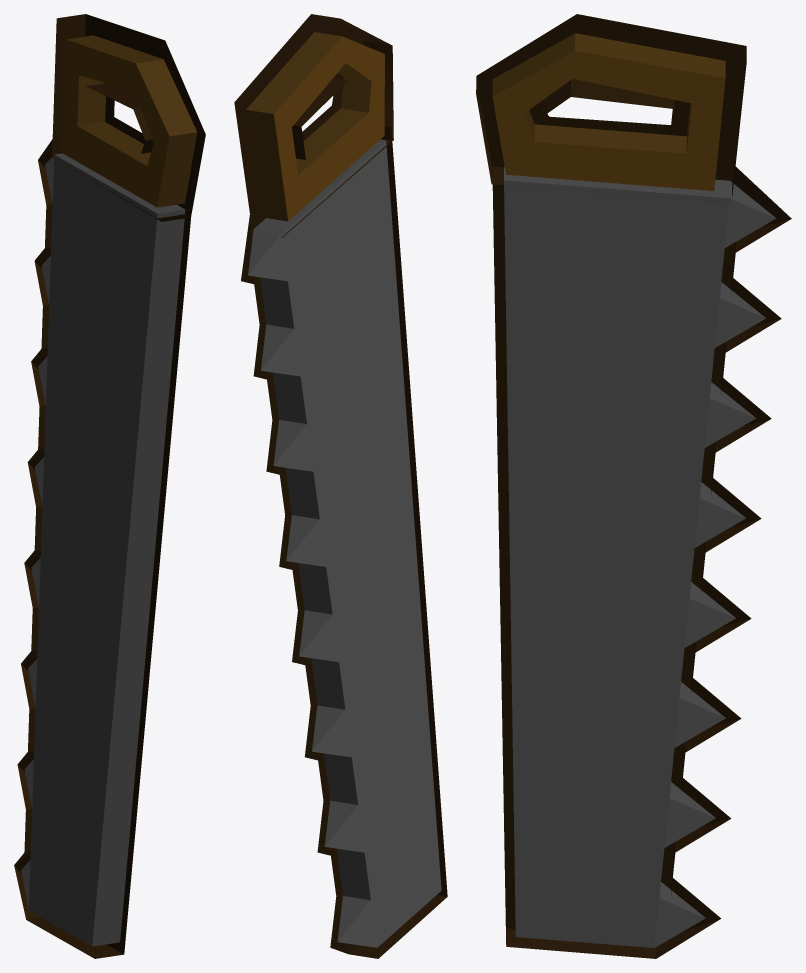
Rendered from Saw.FBX.
3 renders of one model, left to right at view 1: azimuth 30°, elevation 25°; view 2: azimuth 150°, elevation 25°; view 3: azimuth 270°, elevation 25°, orthographic. The views are drawn at different scales.
Visible parts, largest first — view 1: Saw; view 2: Saw; view 3: Saw.
Boxes of the visible parts, box(x1,y1,x2,y2) form: Saw: box(14, 14, 205, 958); Saw: box(234, 14, 447, 958); Saw: box(476, 14, 791, 958).
Size of the model in its own units: 13.34 by 110 by 32.53.
Materials: 1 (1 with a texture image).
